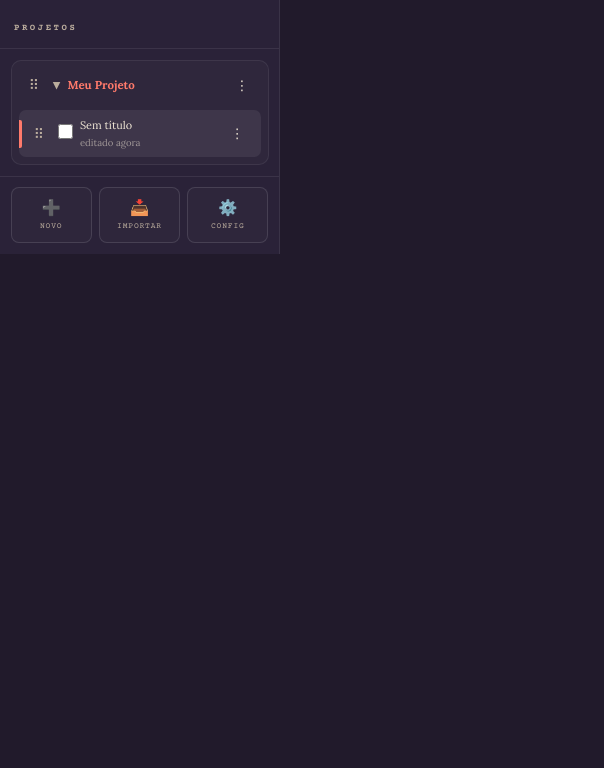
ProjectsSidebar + useProjects › archive files feature › shows the all-archived-files empty state once every file in a project is archived
The default seeded project has one file, "Sem título".
Click the button named "Mais opções do arquivo Sem título": (237, 134) [222,119,252,149]
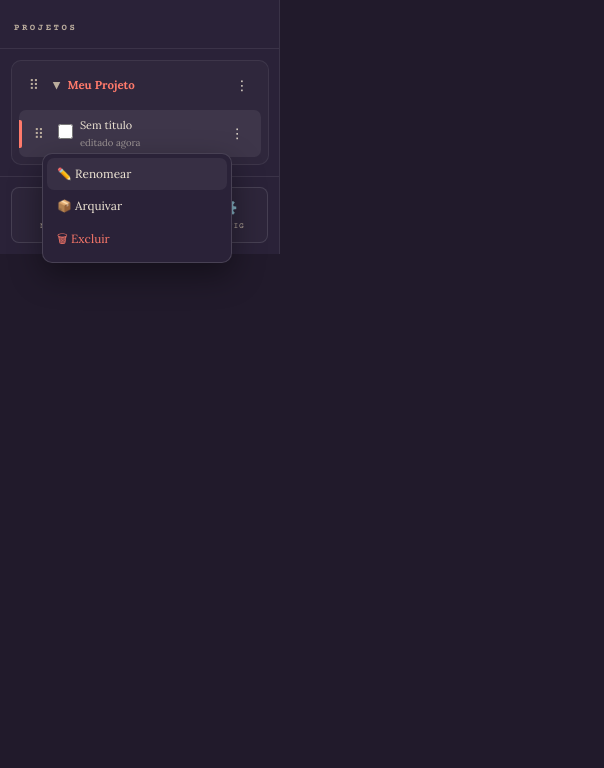
Click the menu item "📦 Arquivar": (137, 206) [47,190,227,222]
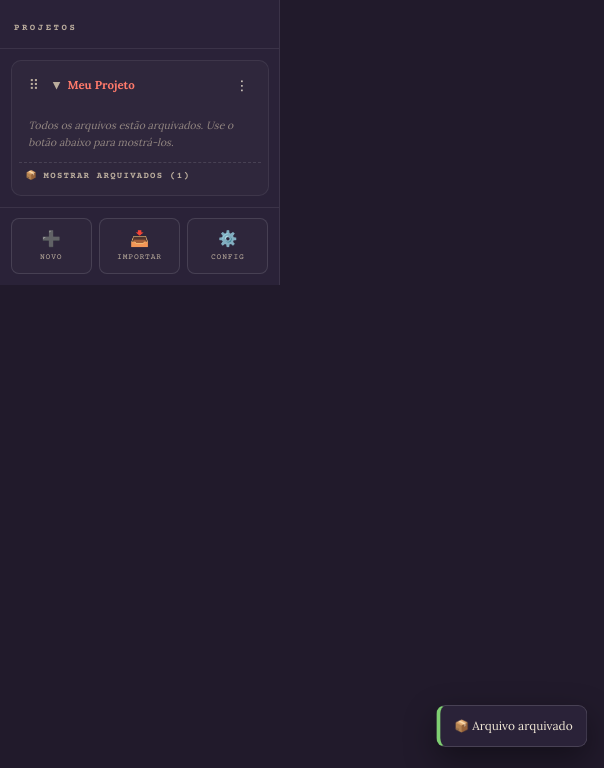
Result: the text "Todos os arquivos estão arquivados. Use o botão abaixo para mostrá-los." is shown at [28,118,233,149]
